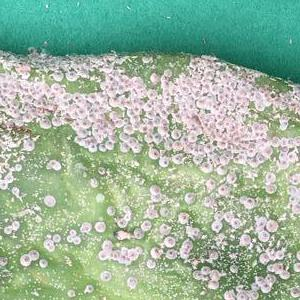Femea: (144, 71, 186, 112), (181, 122, 218, 163), (132, 136, 179, 165), (235, 218, 281, 247), (91, 93, 130, 125), (97, 240, 145, 266), (0, 104, 40, 131), (98, 71, 141, 96), (144, 113, 181, 142), (247, 68, 273, 109), (73, 108, 98, 149), (0, 73, 32, 103), (97, 125, 131, 153), (41, 105, 77, 131), (243, 143, 274, 173), (143, 186, 170, 220), (181, 53, 215, 80), (186, 79, 221, 105), (204, 166, 234, 196), (272, 136, 299, 169), (251, 268, 285, 293), (33, 75, 64, 102), (178, 226, 200, 263), (240, 118, 269, 146), (0, 44, 28, 72), (64, 81, 94, 107), (65, 58, 97, 81), (214, 56, 243, 81), (131, 95, 148, 136), (219, 134, 240, 167), (276, 72, 299, 101), (190, 267, 220, 289), (213, 106, 239, 131), (181, 105, 212, 125), (223, 82, 251, 104), (211, 210, 238, 231), (151, 236, 177, 257), (19, 249, 48, 267), (258, 170, 278, 193), (287, 177, 299, 215), (218, 288, 258, 299), (256, 247, 282, 263), (265, 261, 286, 280), (41, 232, 62, 251), (64, 226, 80, 245), (181, 192, 196, 203), (242, 195, 254, 207), (177, 211, 189, 222)
Macho: (216, 271, 227, 277)
